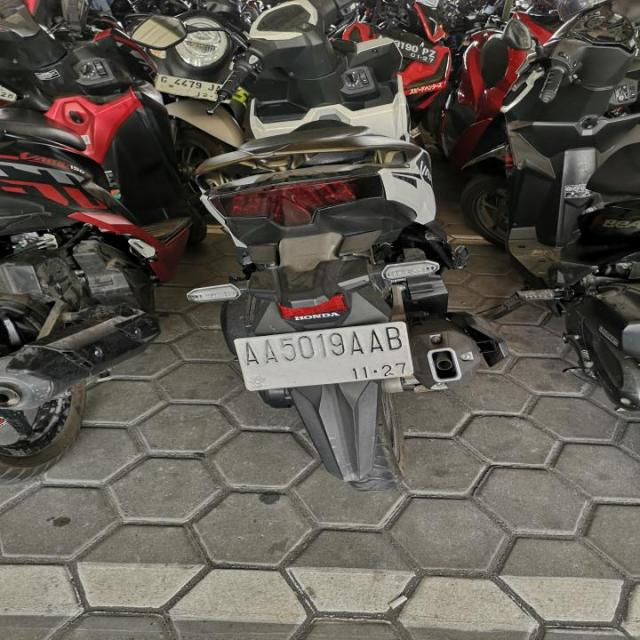License Plate: (232, 318, 416, 393), (154, 72, 229, 104), (374, 34, 438, 65)
